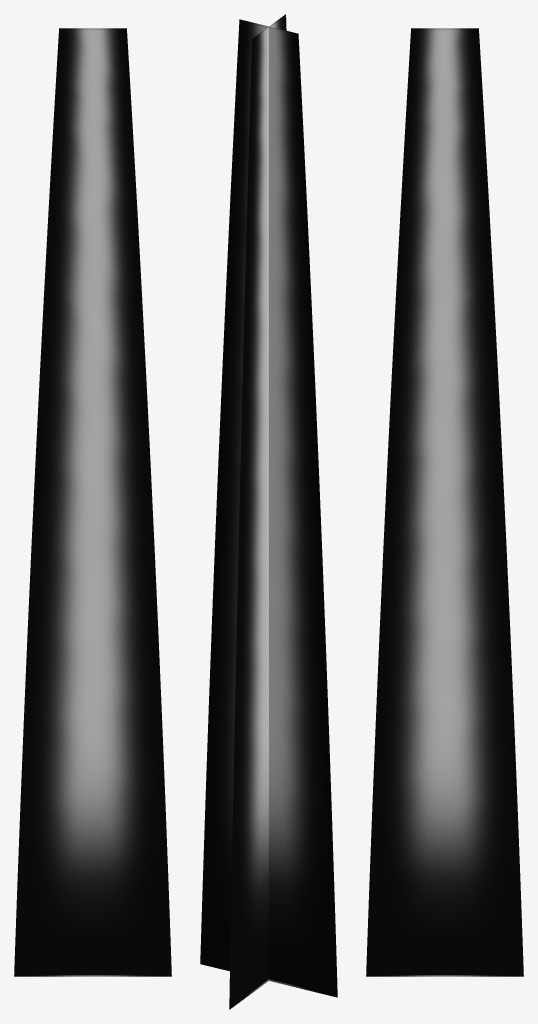
File: sqkpz_shuimu_caihongshuimutexiao000.FBX
3 views of the same model, side by side, from view 1: azimuth 90°, elevation 25°; view 2: azimuth 150°, elevation 25°; view 3: azimuth 270°, elevation 25° (orthographic).
Parts seen in each view (by area): view 1: sqkpz_shuimu_caihongshuimutexiao000; view 2: sqkpz_shuimu_caihongshuimutexiao000; view 3: sqkpz_shuimu_caihongshuimutexiao000.
Part boxes in pixels (x1,y1,x2,y2): sqkpz_shuimu_caihongshuimutexiao000: (14, 28, 171, 976); sqkpz_shuimu_caihongshuimutexiao000: (200, 14, 337, 1009); sqkpz_shuimu_caihongshuimutexiao000: (366, 28, 523, 976).
Bounding box in the file's own units: 16.4 × 109 × 16.4.
